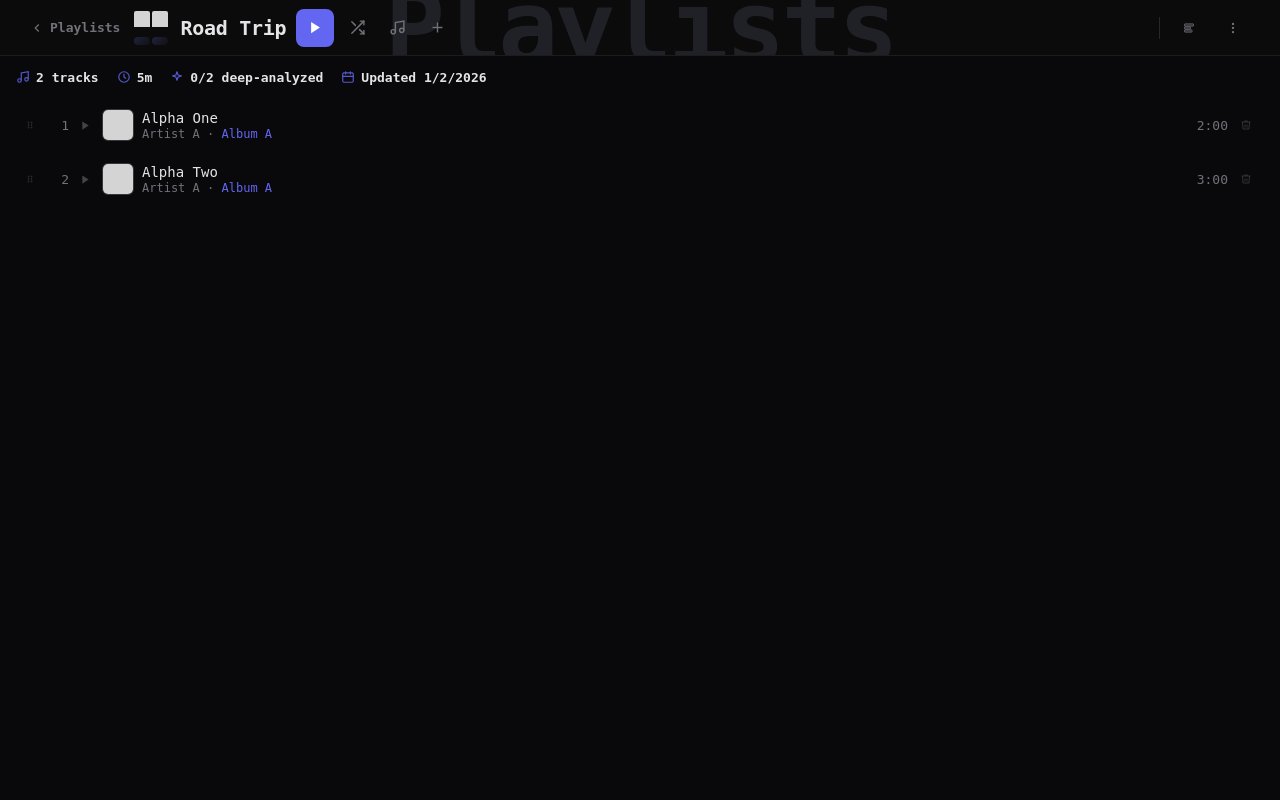
Test case: PlaylistsView integration flows › warns before high-quality BoogieMix when deep analysis dependencies are missing
Click the button named "BoogieMix (Experimental)" at [1189, 28], box [1170,8,1208,46]
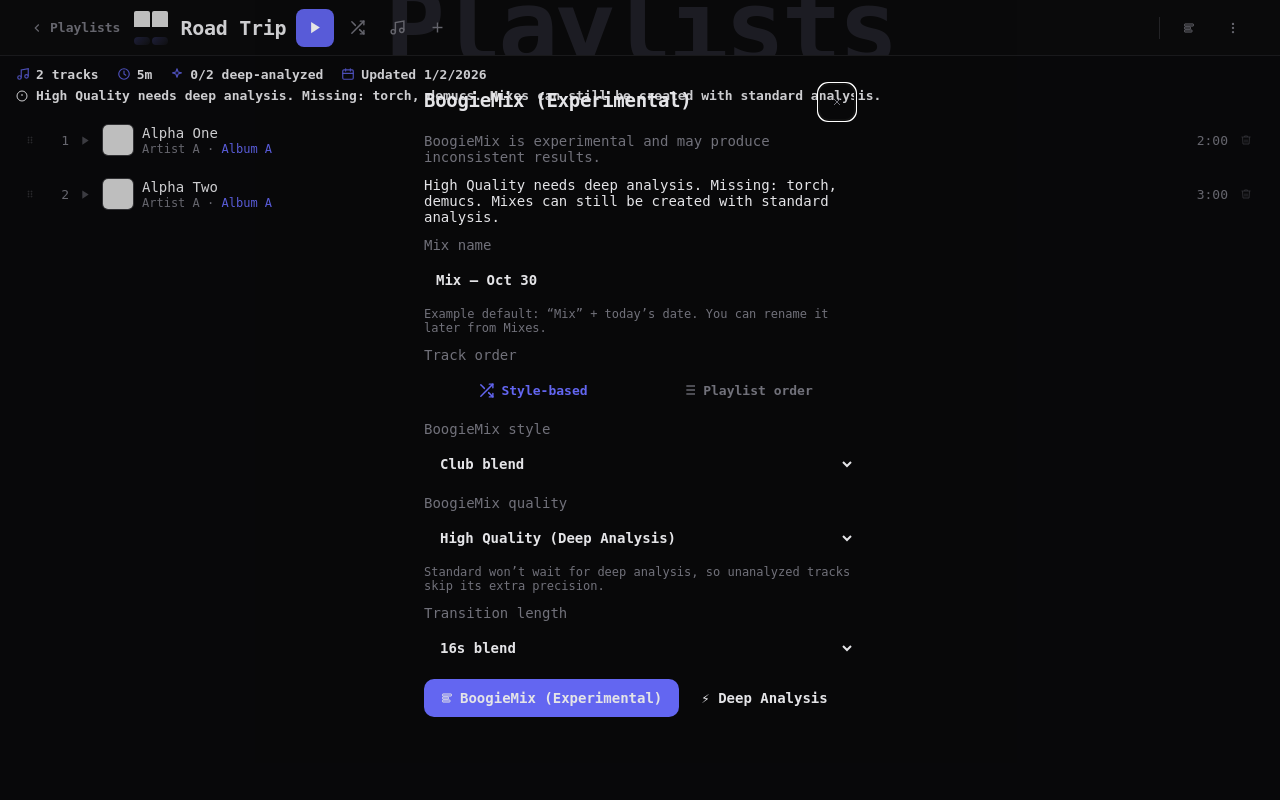
Select "High Quality (Deep Analysis)" in the dropdown titled "BoogieMix quality" at [640, 538], box [424,519,856,557]
Result: the text "High Quality needs deep analysis. Missing: torch, demucs" is shown at [424,177,837,225]
Click the button named "Dismiss" at [837, 102], box [818,83,856,121]
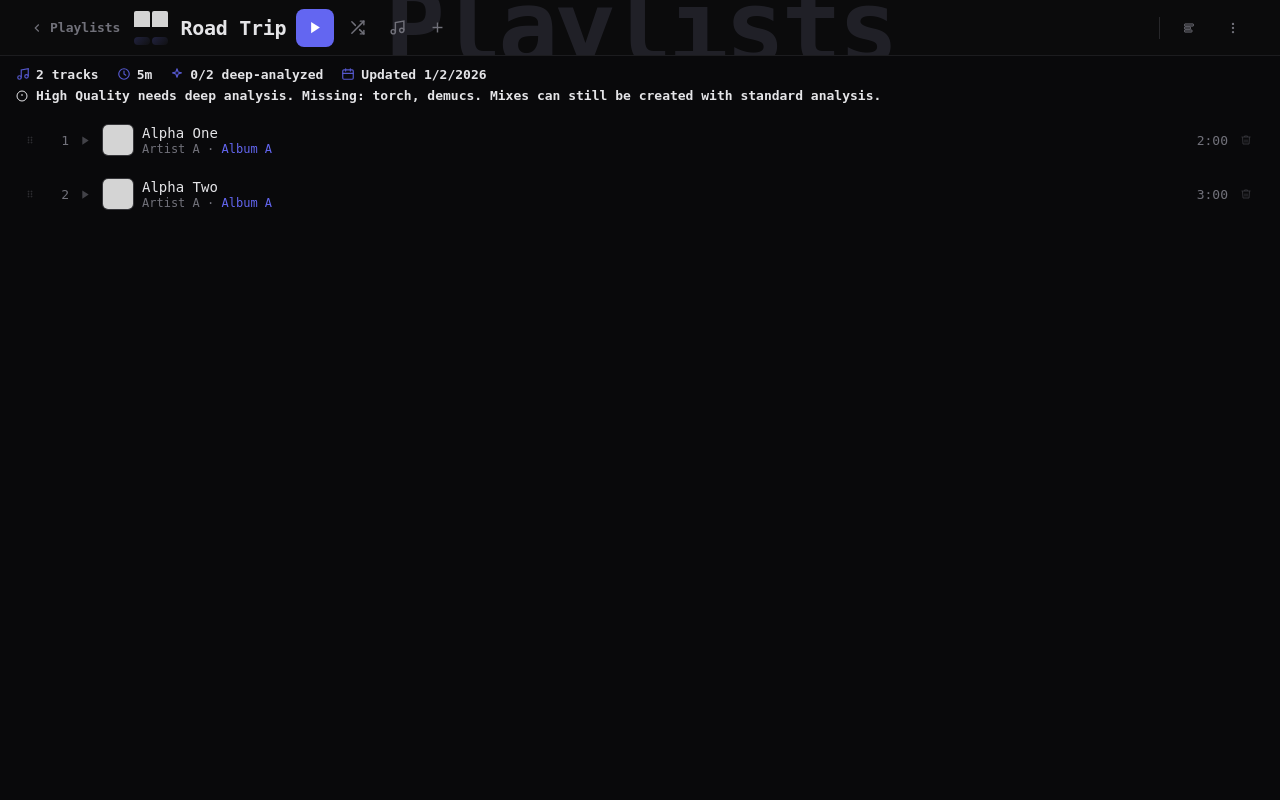
Hover over the element with test id "boogiemix-status" at [449, 96], box [16,88,881,103]
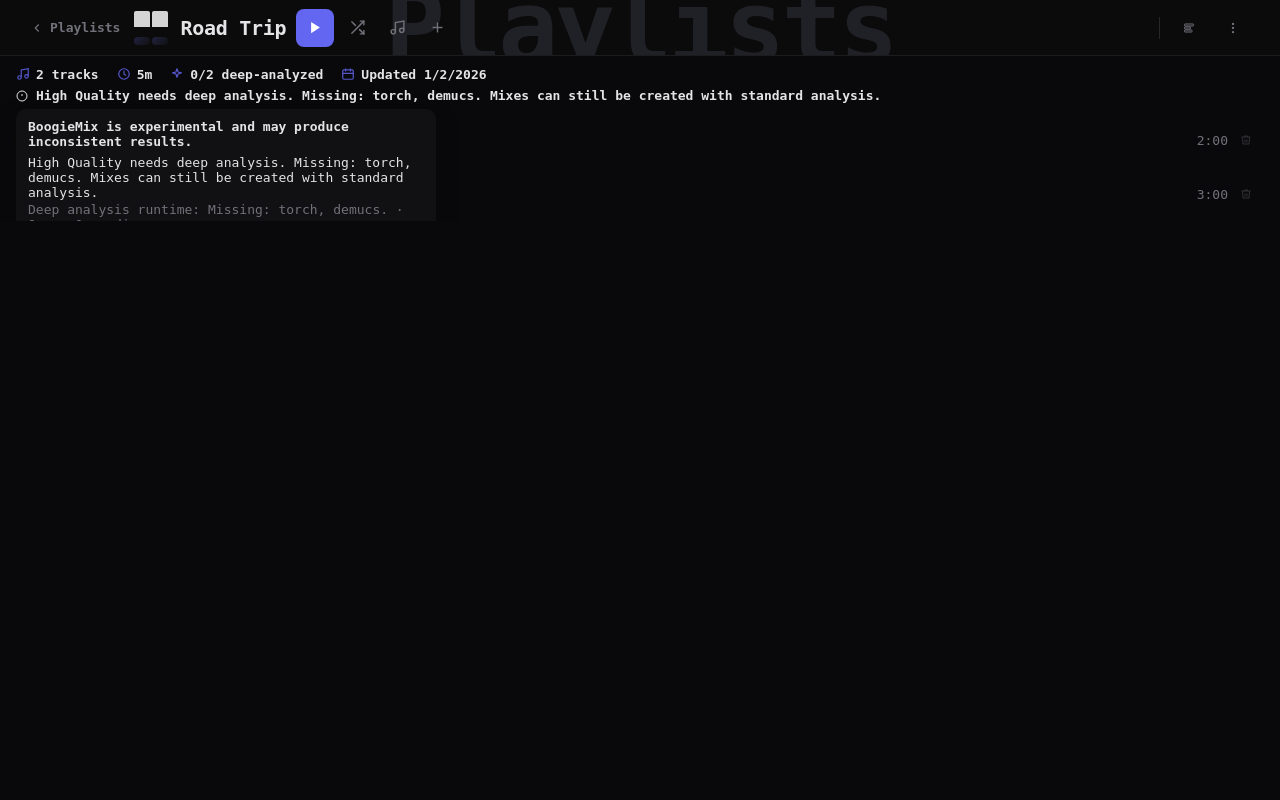
Result: the text "Deep analysis runtime:" shows "Missing: torch, demucs." at [208,202,388,217]
